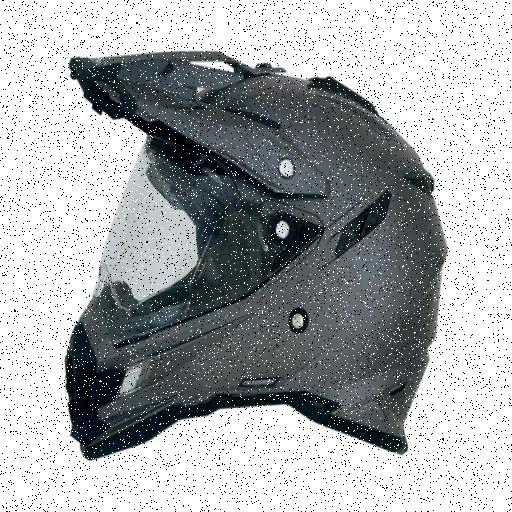Helmet: (74, 38, 422, 464)
